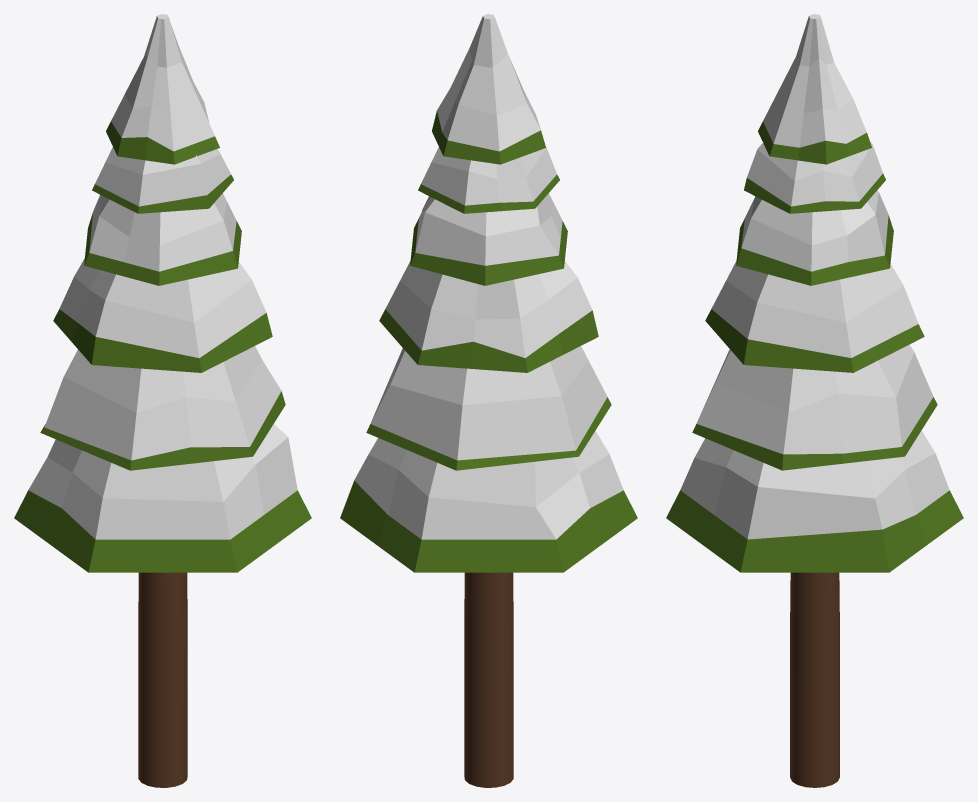
The model's file is Tree_Tall_2_Snow.fbx.
3 renders of one model, left to right at view 1: azimuth 30°, elevation 25°; view 2: azimuth 150°, elevation 25°; view 3: azimuth 270°, elevation 25°, orthographic.
Parts seen in each view (by area): view 1: Tree_Tall_2_Snow; view 2: Tree_Tall_2_Snow; view 3: Tree_Tall_2_Snow.
Boxes of the visible parts, bbox=[...] form: Tree_Tall_2_Snow: bbox=[14, 14, 311, 787]; Tree_Tall_2_Snow: bbox=[340, 14, 637, 787]; Tree_Tall_2_Snow: bbox=[666, 14, 963, 787].
Bounding box in the file's own units: 369 × 1199 × 426.
